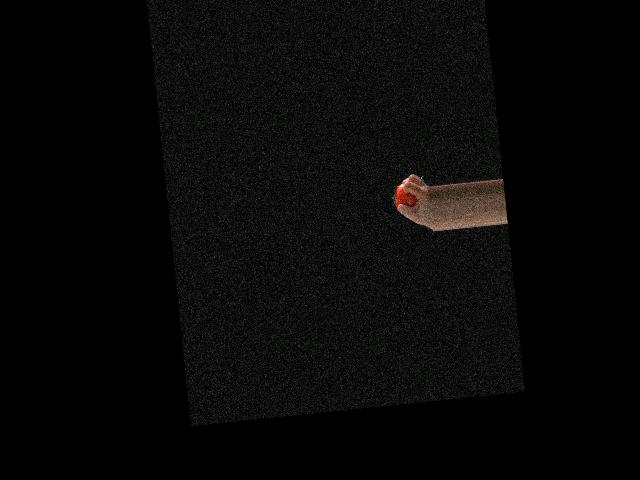tomato: (393, 183, 417, 209)
